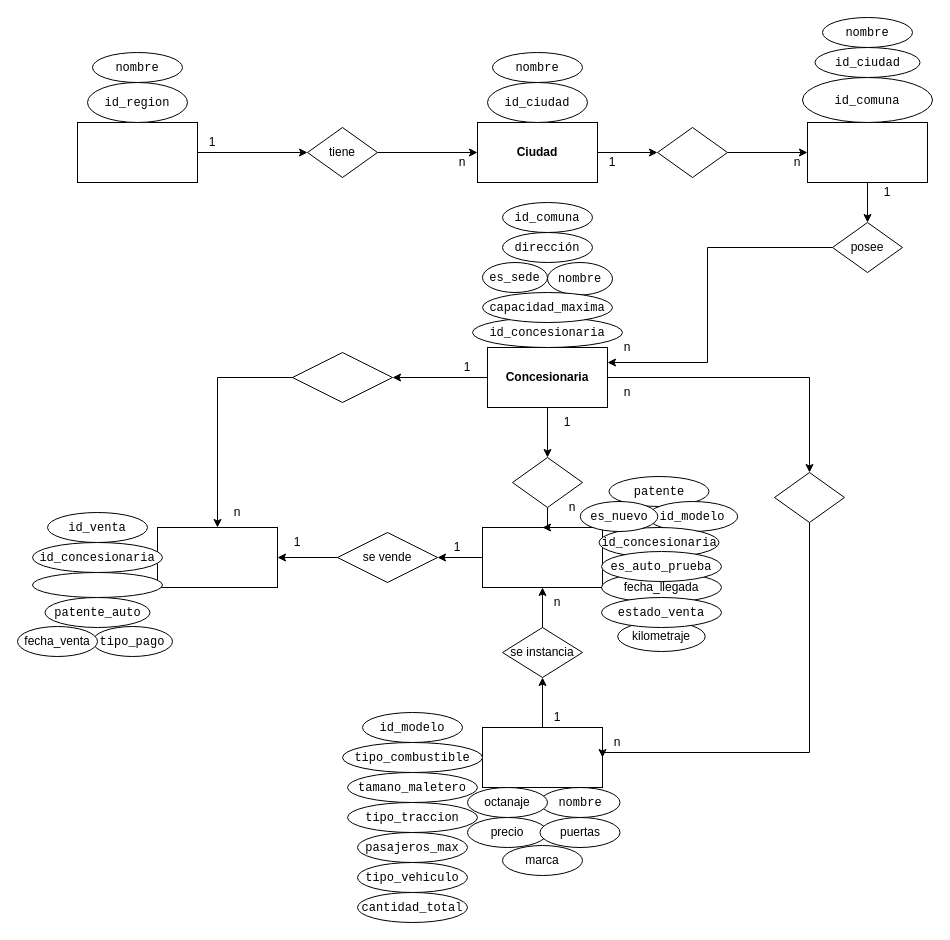
This 950x940 diagram has some shape labels left out. Here are the shapes that lost their labels. From the top down, the box of each, then its label:
(76, 122, 198, 182): Región
(656, 126, 728, 178): contempla
(806, 122, 928, 182): Comuna
(292, 352, 392, 402): realiza
(512, 456, 582, 508): recibe
(774, 472, 844, 522): ofrece
(156, 526, 278, 588): Venta
(482, 526, 602, 588): Auto
(32, 572, 162, 598): nombre_adquisidor
(482, 726, 602, 788): Modelo_auto
